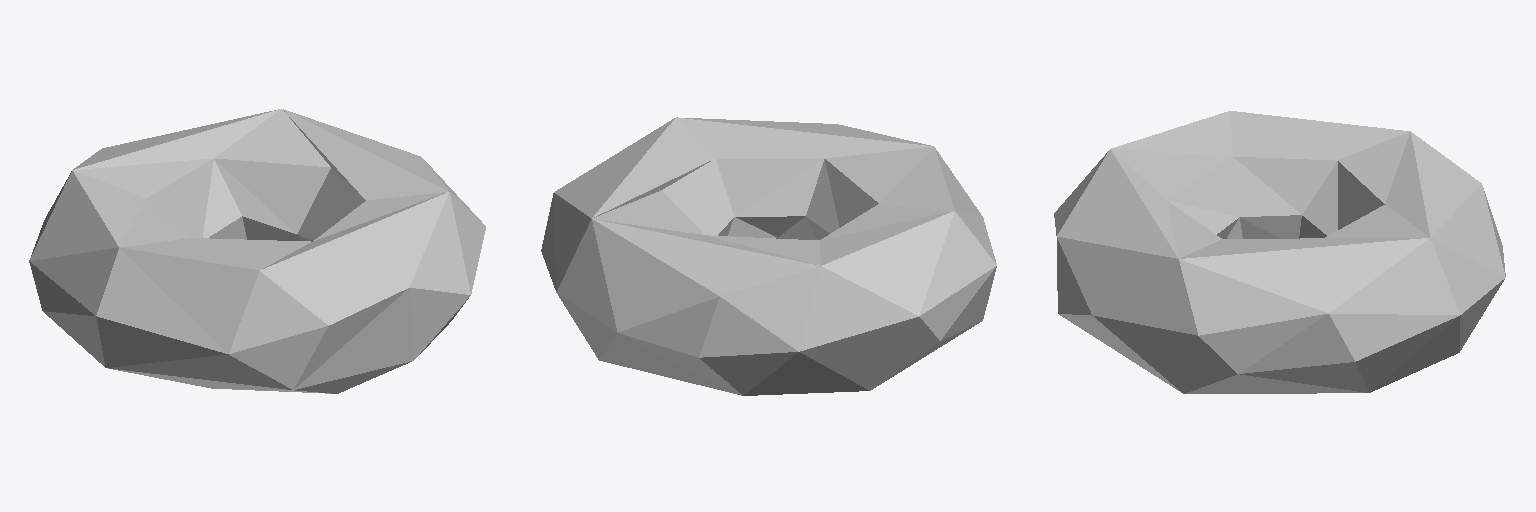
Rendered from bestdonut.obj.
3 views of the same model, side by side, from view 1: azimuth 30°, elevation 25°; view 2: azimuth 150°, elevation 25°; view 3: azimuth 270°, elevation 25° (orthographic).
Parts seen in each view (by area): view 1: donut_model_Mesh; view 2: donut_model_Mesh; view 3: donut_model_Mesh.
Boxes of the visible parts, x1=… form: donut_model_Mesh: x1=29, y1=109, x2=485, y2=393; donut_model_Mesh: x1=541, y1=117, x2=996, y2=395; donut_model_Mesh: x1=1054, y1=111, x2=1505, y2=393.
Bounding box in the file's own units: 1.98 × 0.6578 × 1.99.